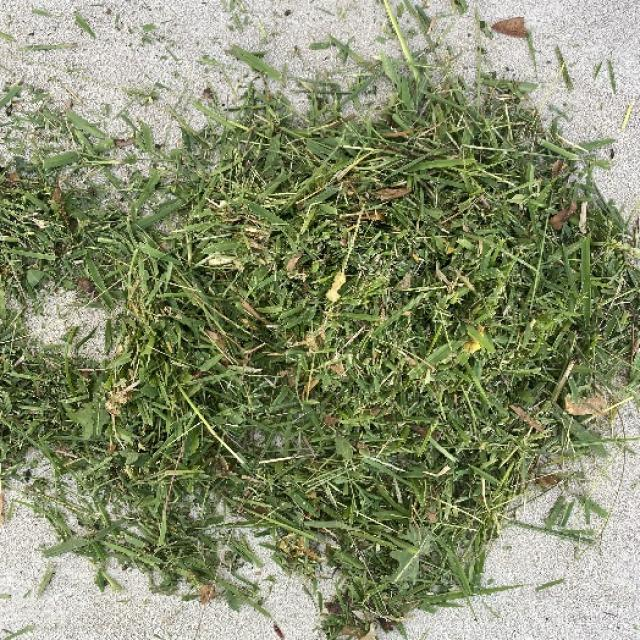organik: (116, 70, 625, 606)
